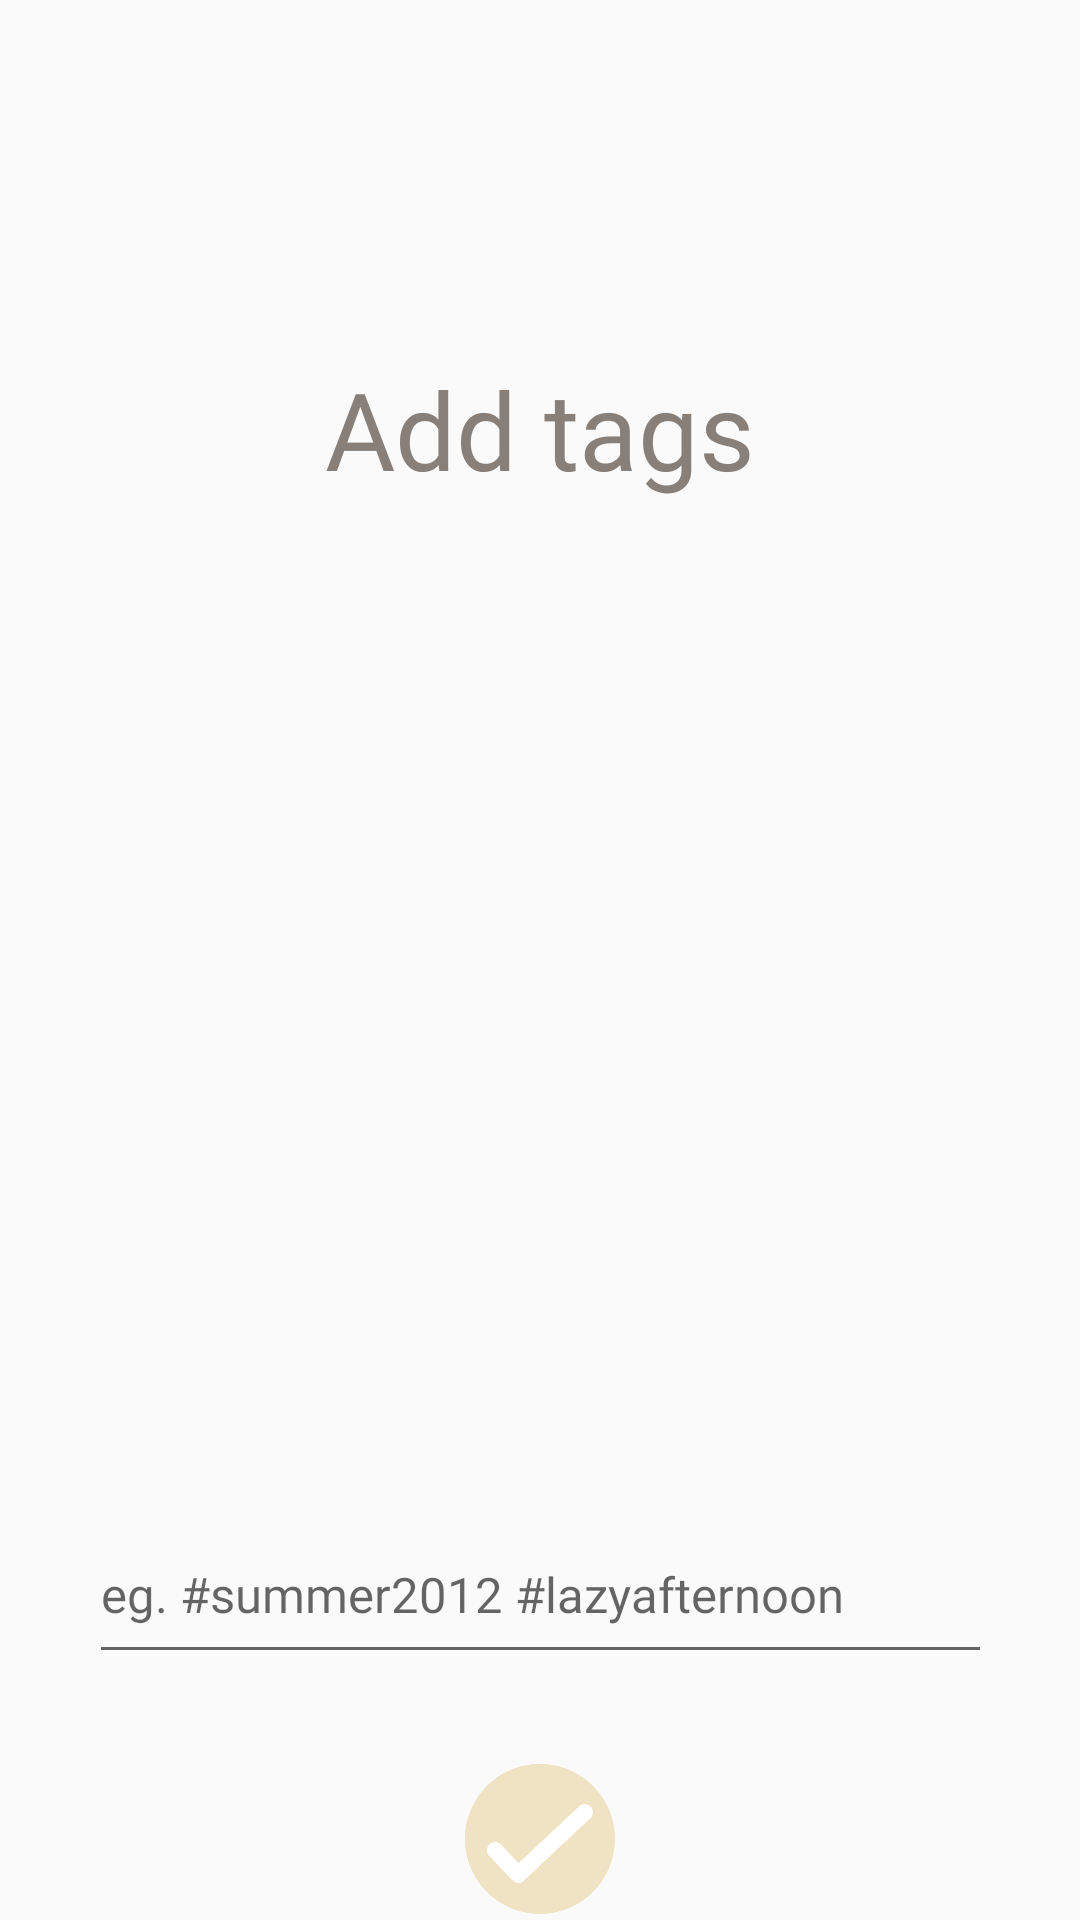

Where to tap for icons on this 1080 × 1920 app screen, as point (x, y):
tick: point (540, 1839)
